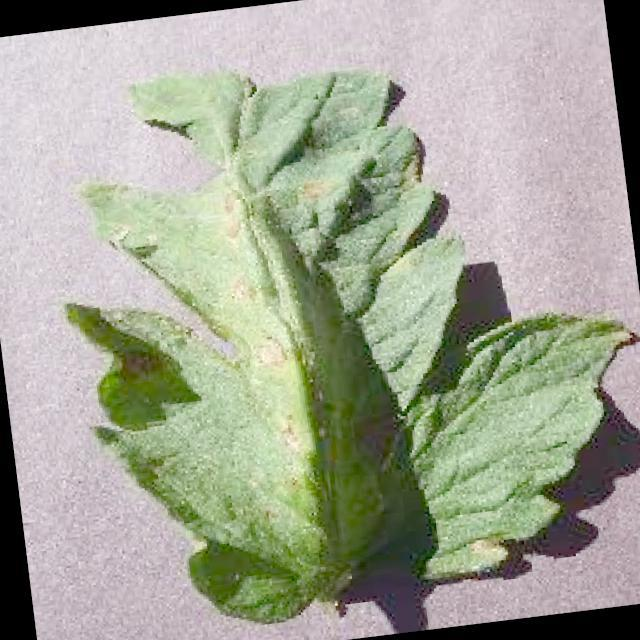Tomato Early blight leaf: (59, 15, 640, 640)
